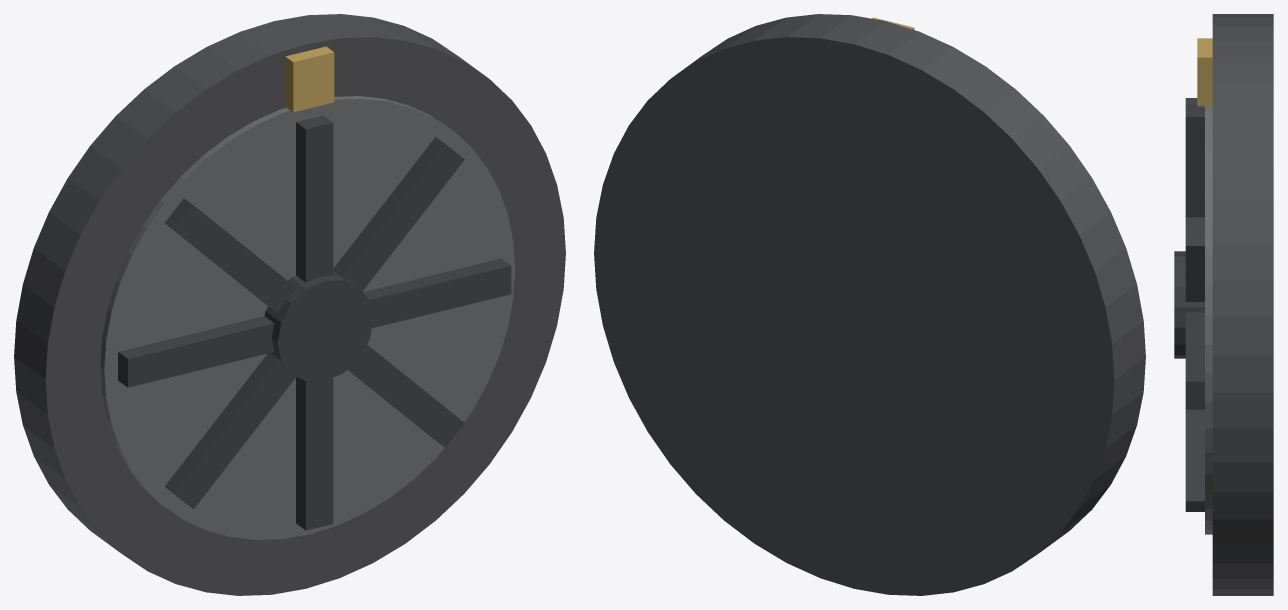
Rendered from SM_TD2_PulleyWheel.gltf.
3 views of the same model, side by side, from view 1: azimuth 30°, elevation 25°; view 2: azimuth 150°, elevation 25°; view 3: azimuth 270°, elevation 25° (orthographic). The views are drawn at different scales.
Visible parts, largest first — view 1: SM_TD2_PulleyWheel; view 2: SM_TD2_PulleyWheel; view 3: SM_TD2_PulleyWheel.
Part boxes in pixels (x1,y1,x2,y2): SM_TD2_PulleyWheel: (14,14,565,595); SM_TD2_PulleyWheel: (594,14,1145,595); SM_TD2_PulleyWheel: (1174,14,1273,595).
Bounding box in the file's own units: 0.76 × 0.76 × 0.13.
